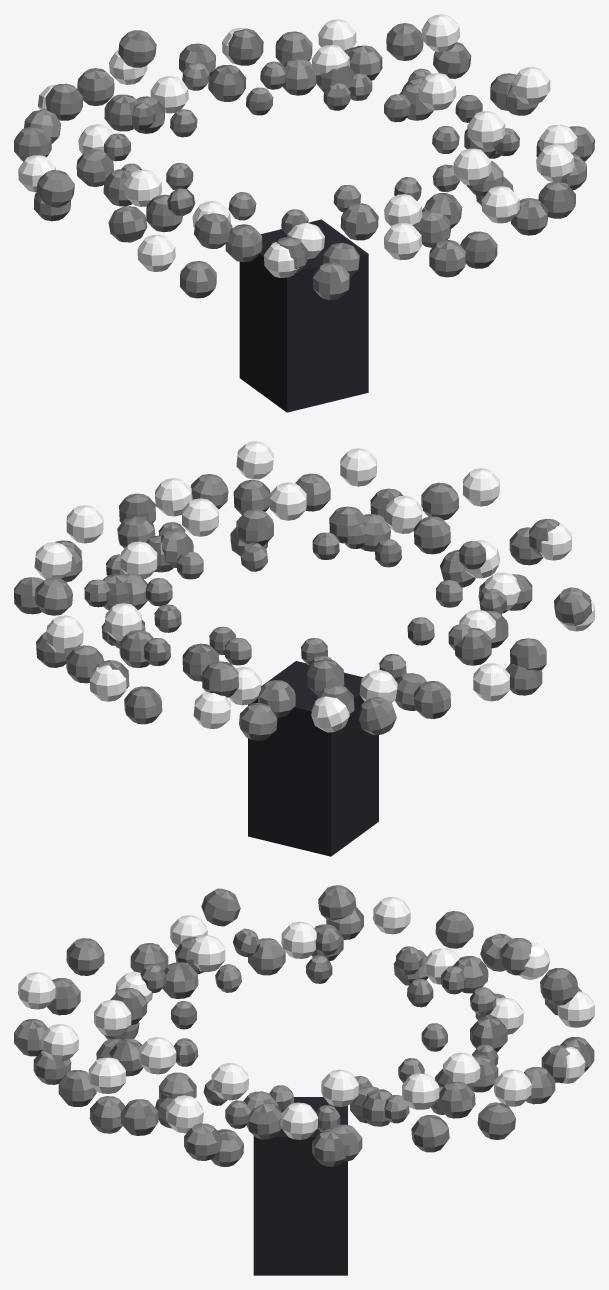
The model's file is Ast2.gltf.
3 views of the same model, one above another, from view 1: azimuth 30°, elevation 25°; view 2: azimuth 150°, elevation 25°; view 3: azimuth 270°, elevation 25° (orthographic).
Visible parts, largest first — view 1: sphere (×4), cube; view 2: sphere (×4), cube; view 3: sphere (×4), cube.
Boxes of the visible parts, box(x1,y1,x2,y2) form: sphere (×4): box(14, 14, 594, 300); cube: box(239, 219, 368, 412); sphere (×4): box(14, 441, 594, 740); cube: box(248, 661, 378, 856); sphere (×4): box(14, 885, 594, 1166); cube: box(253, 1097, 347, 1275).
Bounding box in the file's own units: 0.9439 × 0.5058 × 0.9616.
Materials: 3 (2 with a texture image).
